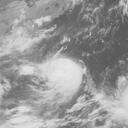cyclone: (44, 56, 83, 97)
